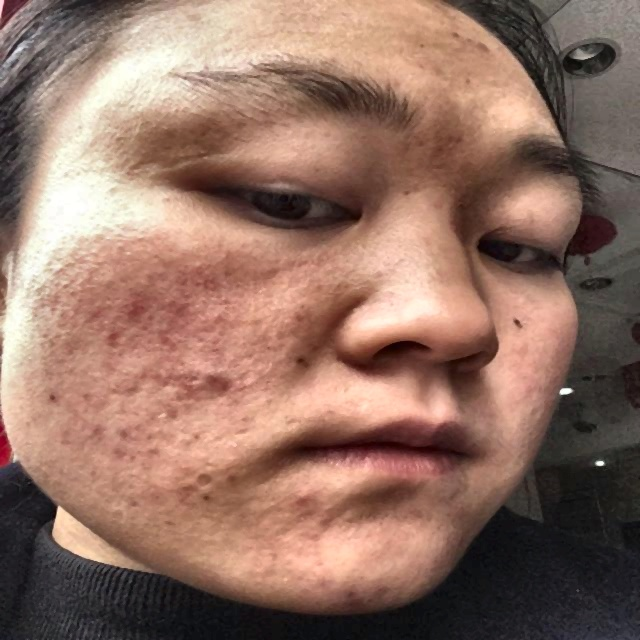comedone: (190, 356, 233, 396)
